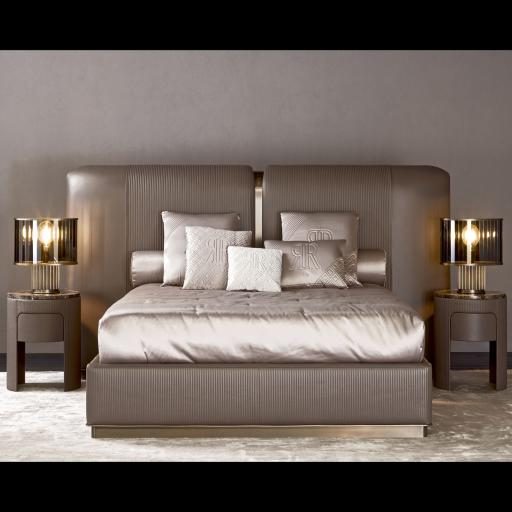bed: (67, 164, 450, 438)
